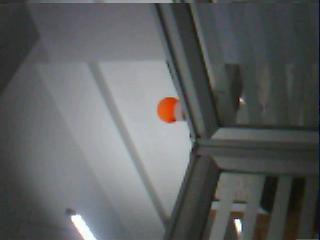oball: (157, 97, 180, 123)
